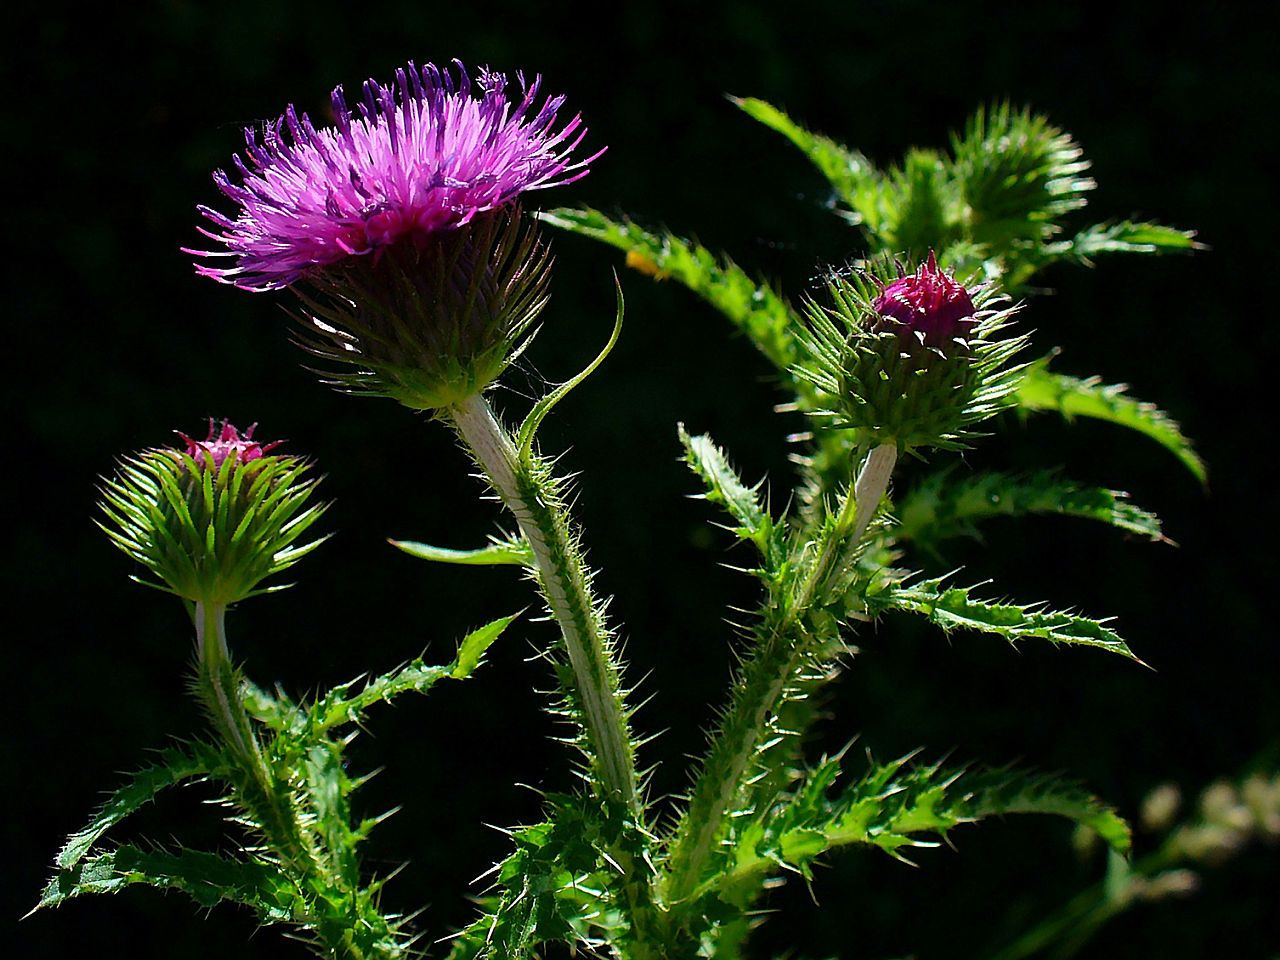thistle: (186, 73, 578, 419), (788, 252, 1039, 468), (116, 425, 342, 616)
